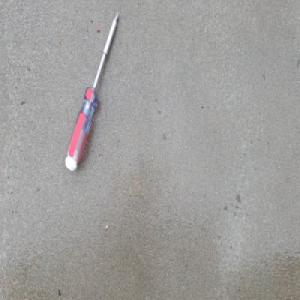Screwdriver: (62, 9, 120, 174)
